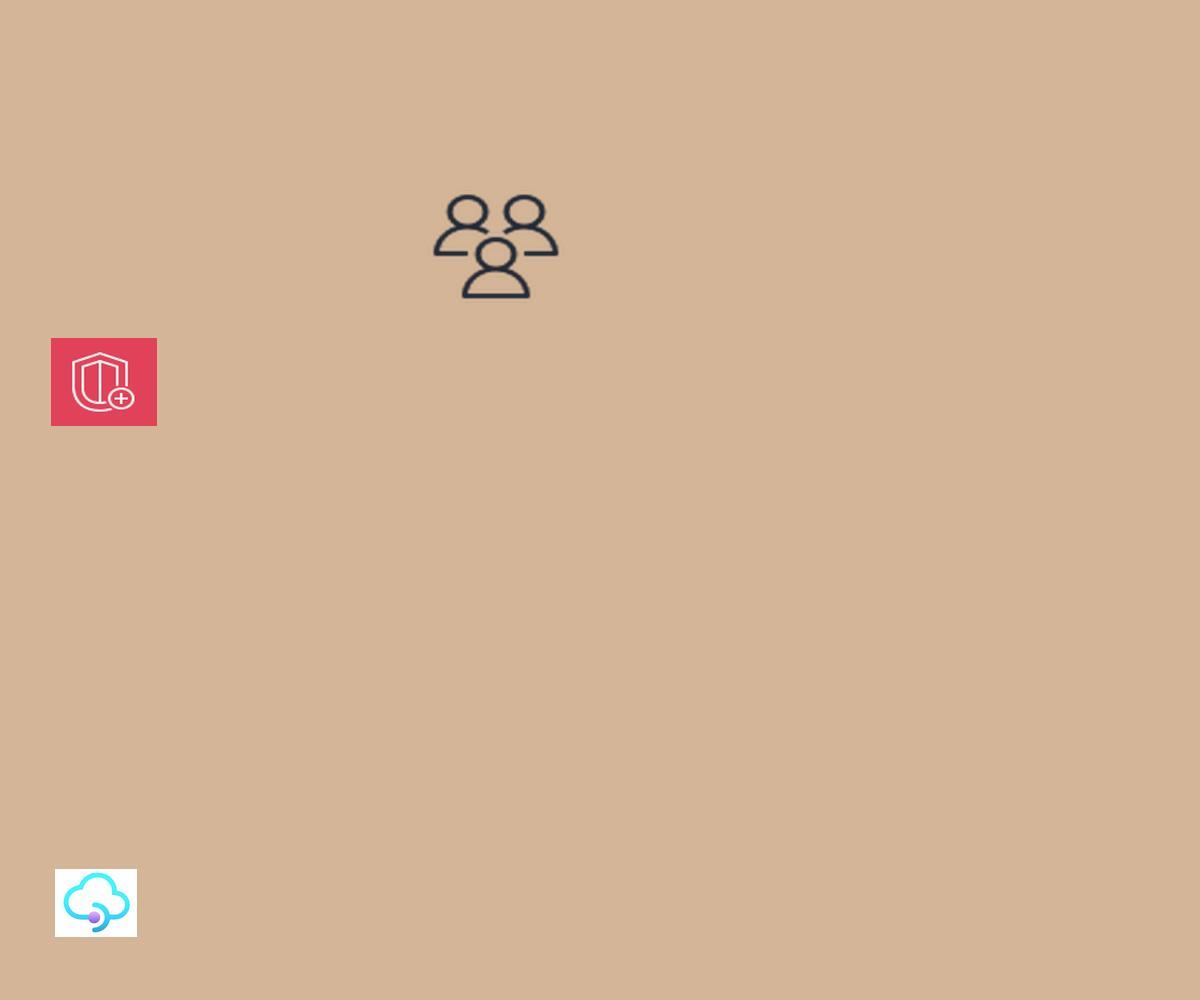AWS-Res_Users: (428, 190, 564, 303)
AWS-Shield: (51, 338, 157, 426)
Azure_api_gateway: (55, 869, 137, 937)
